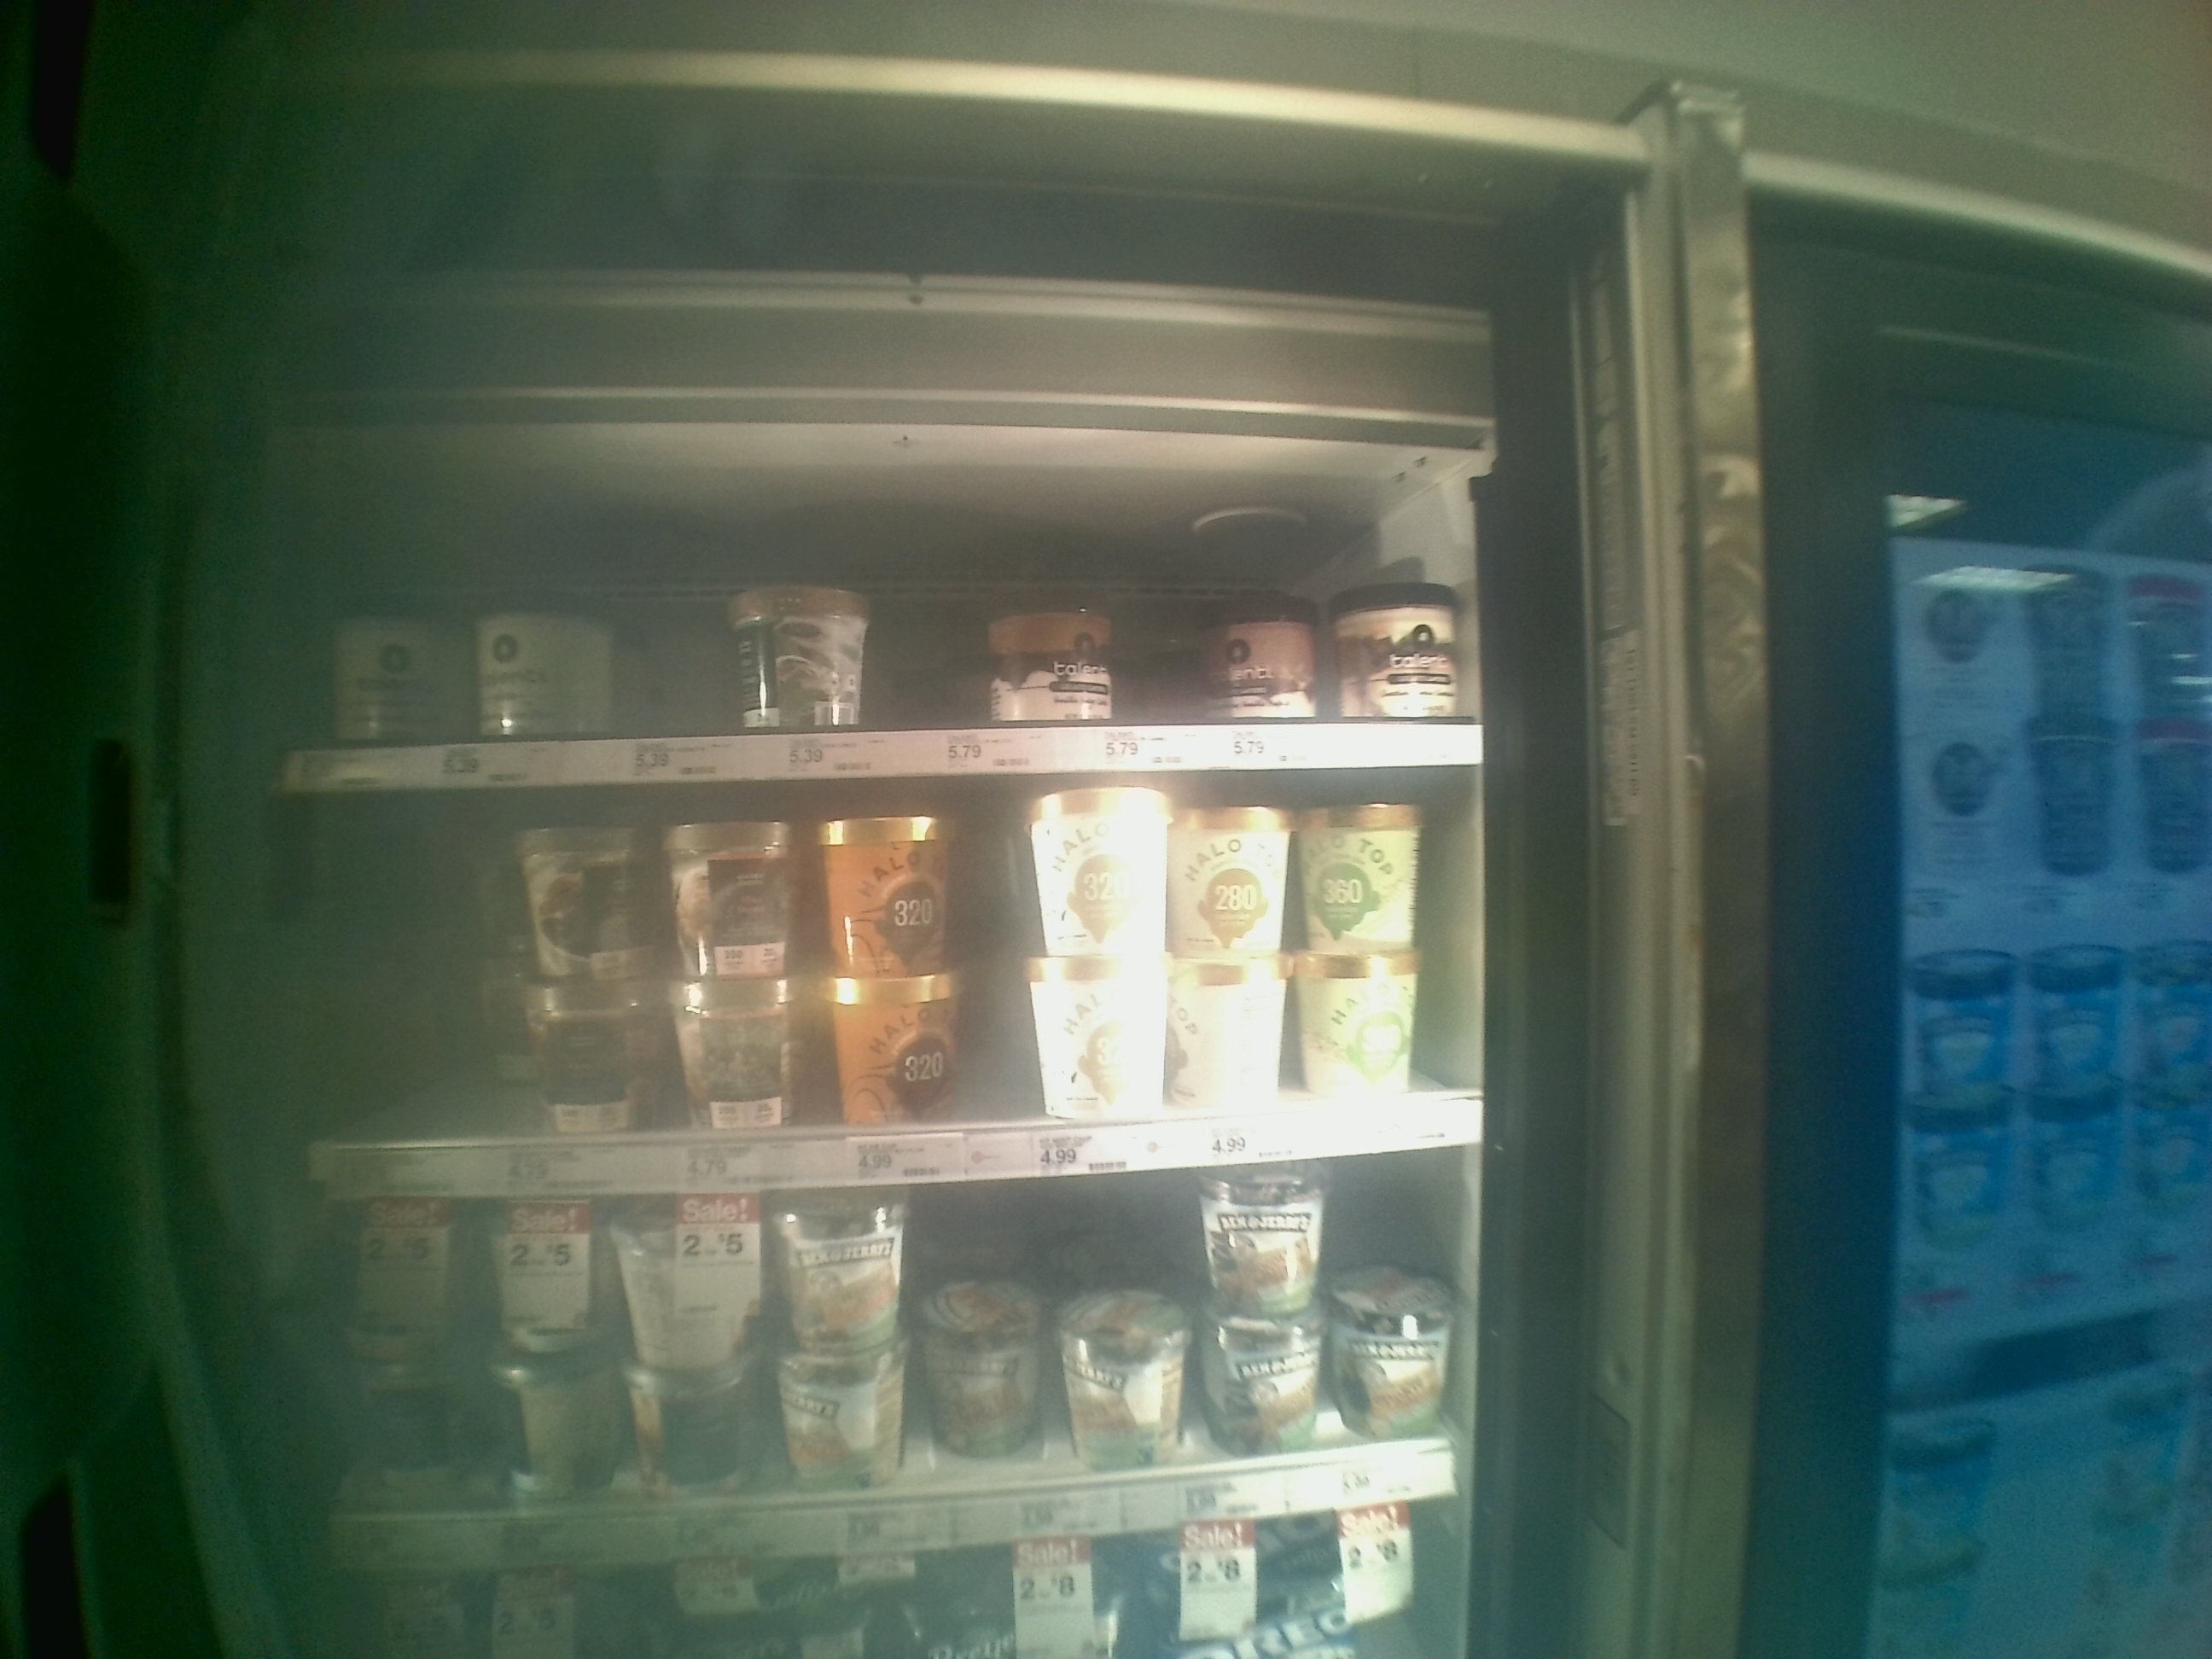ice-cream-shelf: (298, 479, 1491, 782)
